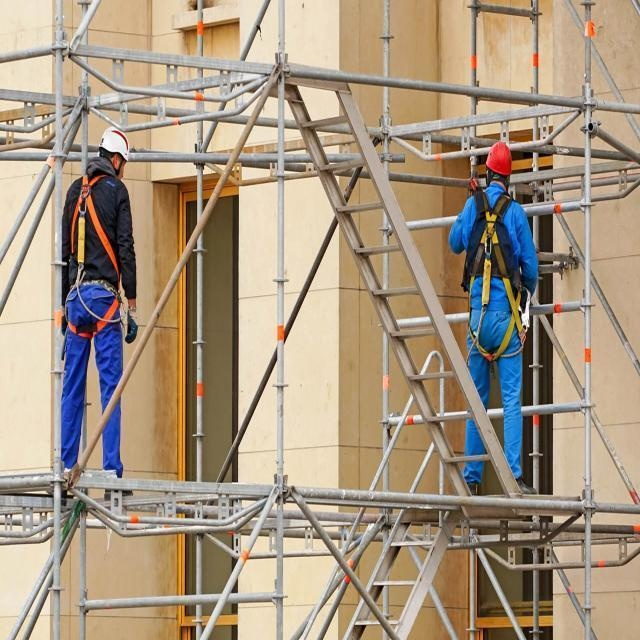Arnes_seguridad: (463, 189, 526, 355), (68, 172, 119, 340)
